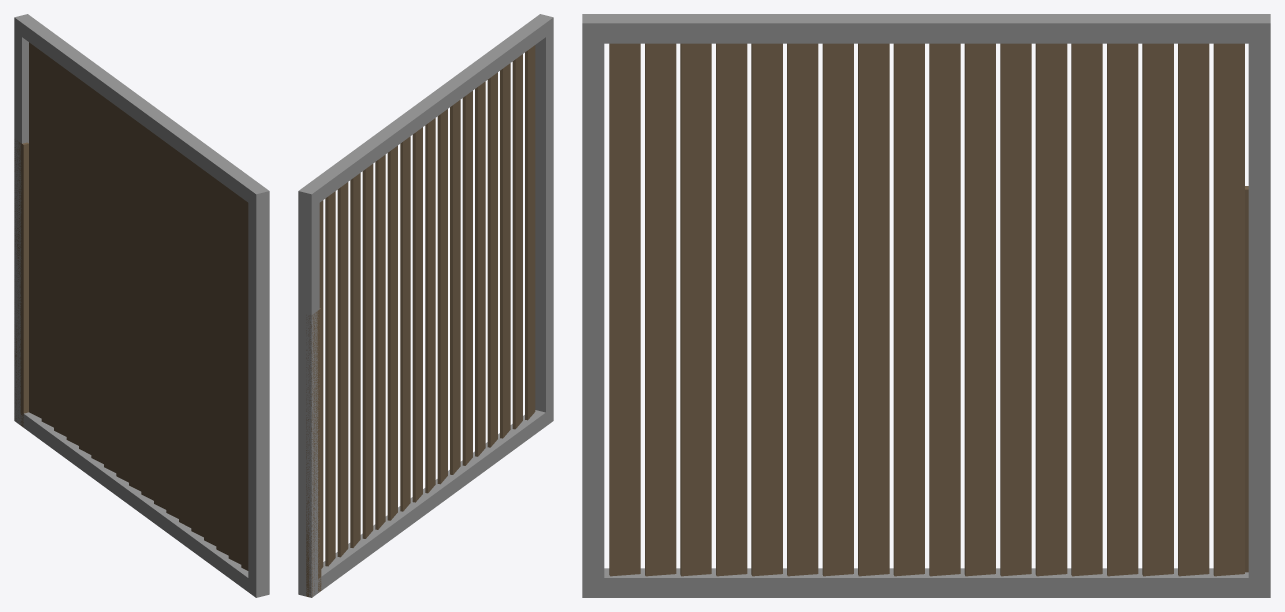
File: barrier.glb
3 renders of one model, left to right at view 1: azimuth 30°, elevation 25°; view 2: azimuth 150°, elevation 25°; view 3: azimuth 270°, elevation 25°, orthographic. The views are drawn at different scales.
Parts seen in each view (by area): view 1: fill (×19), frame (×3), frame_left (×3); view 2: fill (×19), frame (×3), frame_left (×2); view 3: fill (×19), frame_left (×2), frame (×2).
Boxes of the visible parts, <box> form: fill (×19): <box>14,42,248,570</box>; frame (×3): <box>14,31,269,583</box>; frame_left (×3): <box>14,14,269,597</box>; fill (×19): <box>306,45,535,597</box>; frame (×3): <box>298,31,553,596</box>; frame_left (×2): <box>298,14,553,596</box>; fill (×19): <box>609,43,1248,576</box>; frame_left (×2): <box>582,14,1270,597</box>; frame (×2): <box>582,43,1270,577</box>.
Bounding box in the file's own units: 0.05 × 1.43 × 1.55.
